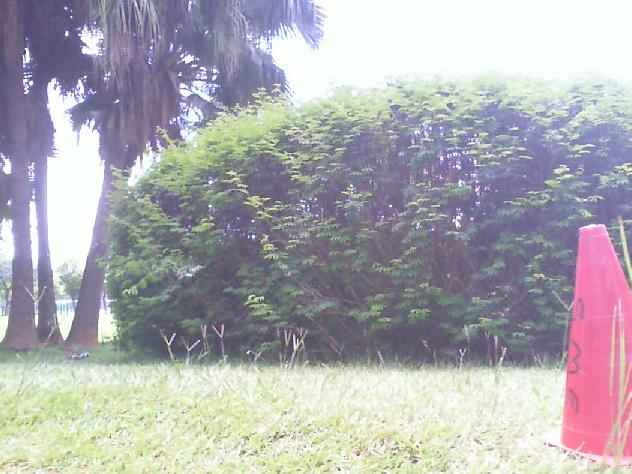0 cone: (540, 224, 632, 468)
